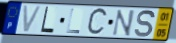C: (85, 7, 109, 38)
L: (39, 6, 55, 35), (65, 8, 81, 35)
N: (110, 9, 136, 37)
S: (134, 9, 157, 39)
V: (22, 4, 44, 34)
